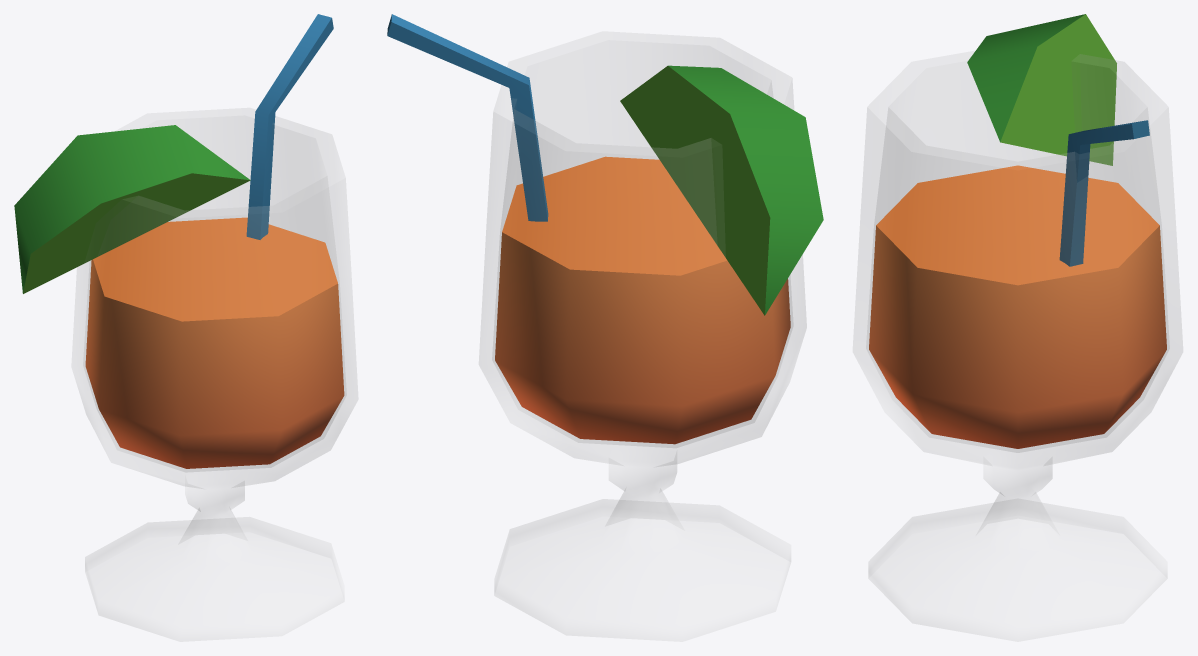
3 views of the same model, side by side, from view 1: azimuth 30°, elevation 25°; view 2: azimuth 150°, elevation 25°; view 3: azimuth 270°, elevation 25° (orthographic). The views are drawn at different scales.
Visible parts, largest first — view 1: transp.002; view 2: transp.002; view 3: transp.002.
Part boxes in pixels (x1,y1,x2,y2): transp.002: (14, 14, 357, 641); transp.002: (387, 14, 823, 641); transp.002: (853, 14, 1182, 641).
Size of the model in its own units: 0.3647 by 0.5 by 0.2746.
